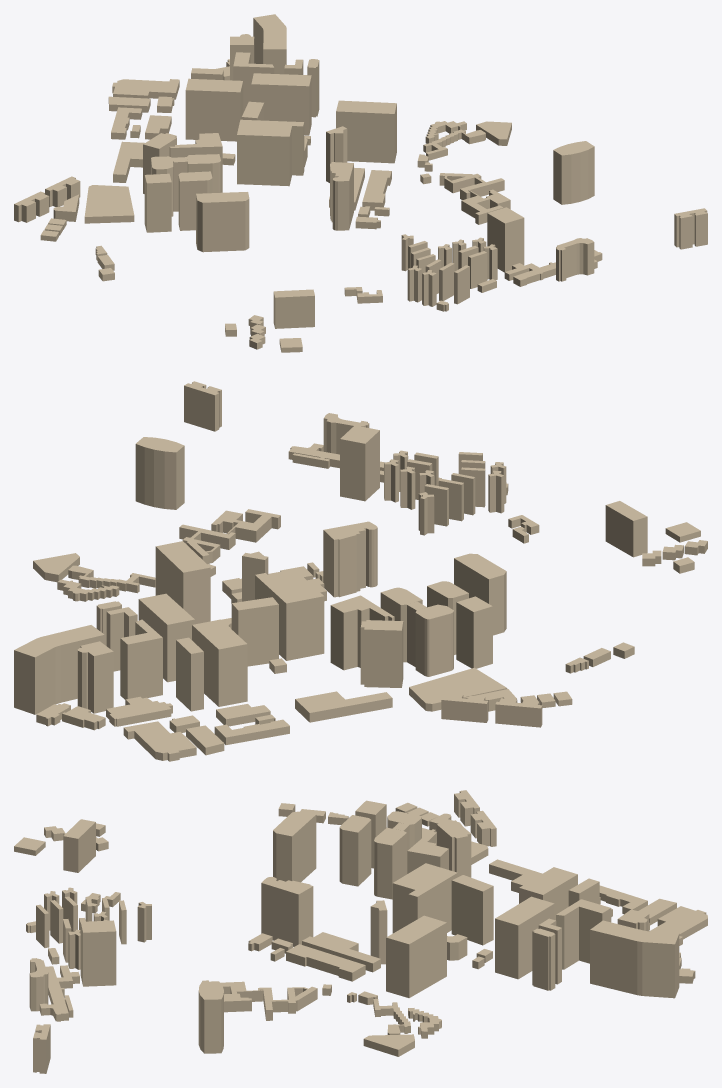
File: -12_-5-estimated-coarse.glb
3 renders of one model, top to bottom at view 1: azimuth 30°, elevation 25°; view 2: azimuth 150°, elevation 25°; view 3: azimuth 270°, elevation 25°, orthographic. The views are drawn at different scales.
Bounding box in the file's own units: 951 × 90 × 1049.
